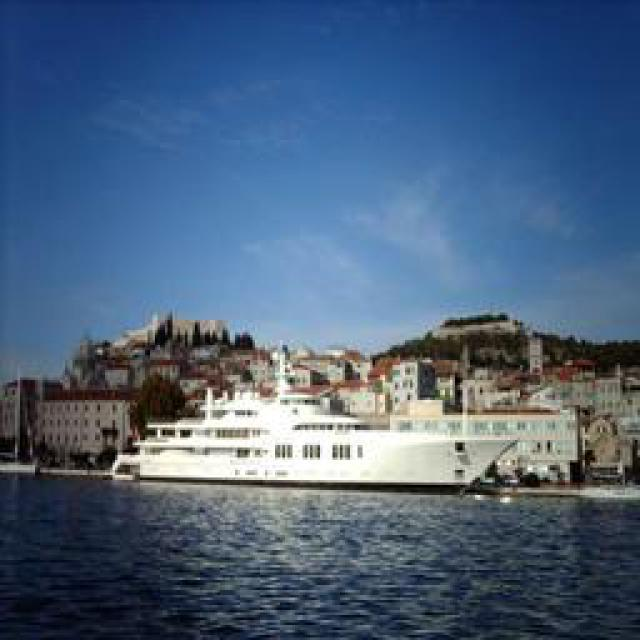Ship: (110, 390, 570, 490)
